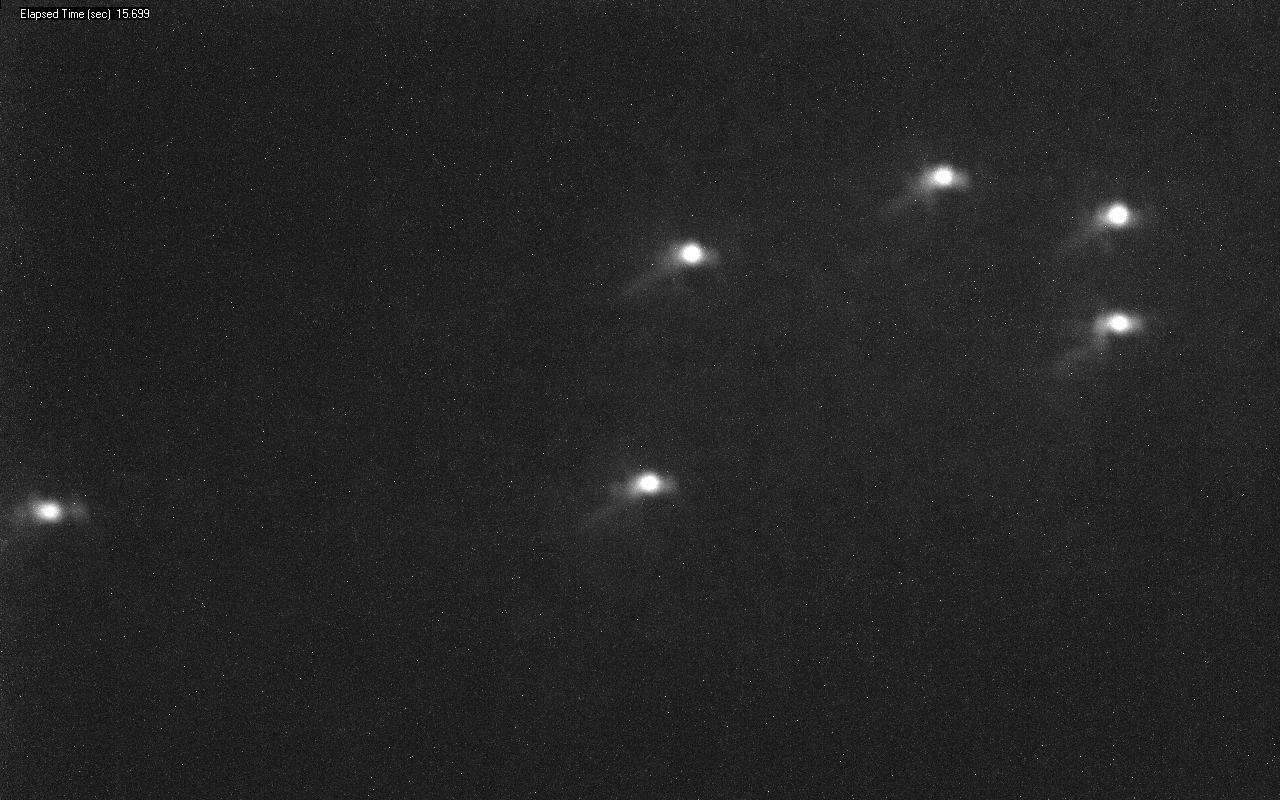Bead: (923, 166, 959, 189), (1101, 203, 1131, 227), (633, 473, 664, 494), (1103, 313, 1135, 333), (35, 501, 66, 521), (679, 243, 707, 265)
